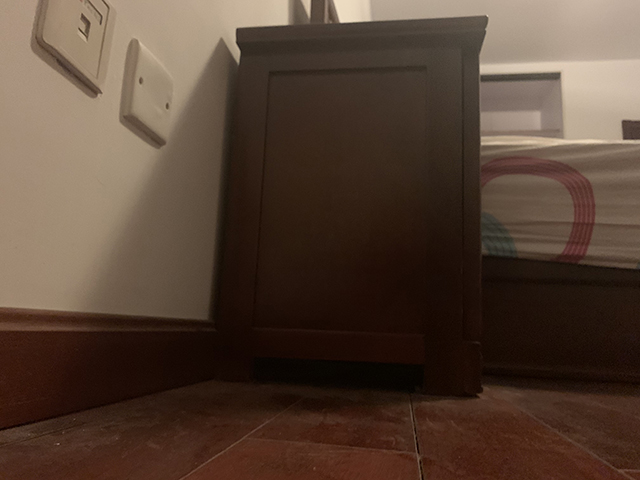bed: (480, 134, 640, 381)
cabinet: (215, 14, 489, 396)
